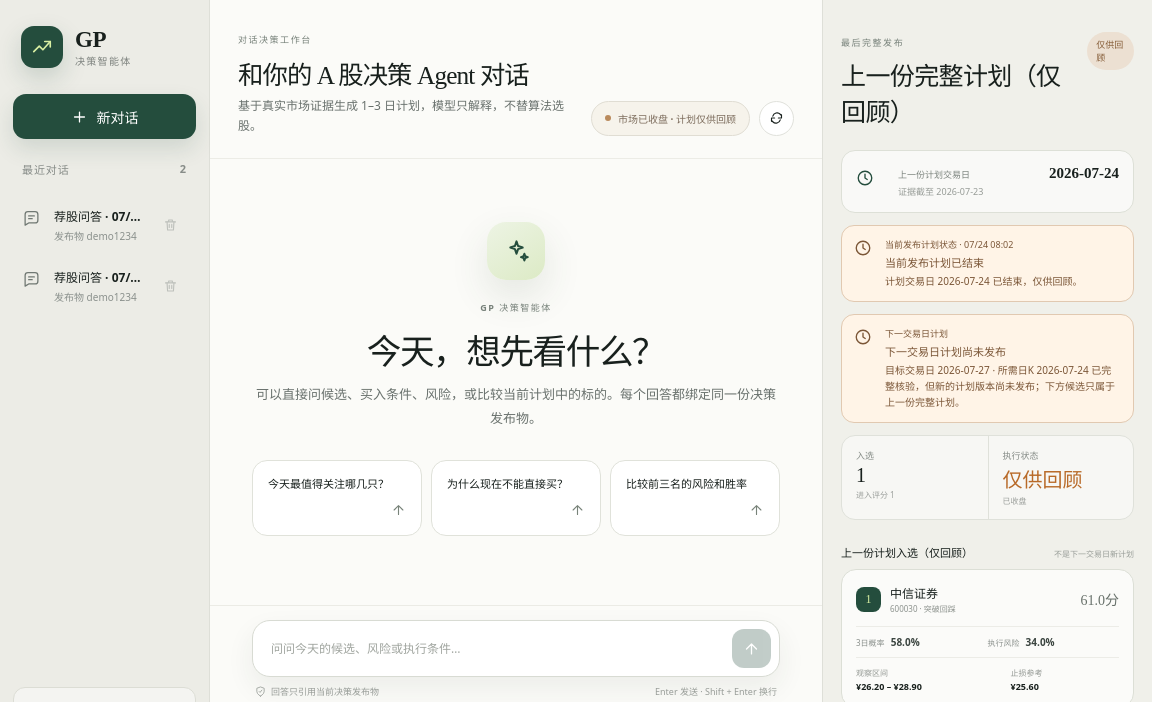
Scenario: GP chat workspace › keeps a newly selected conversation when an earlier deletion finishes
Click the button "荐股问答 · 07/23 09:01 发布物 demo1234": (84, 225) [13,197,154,253]
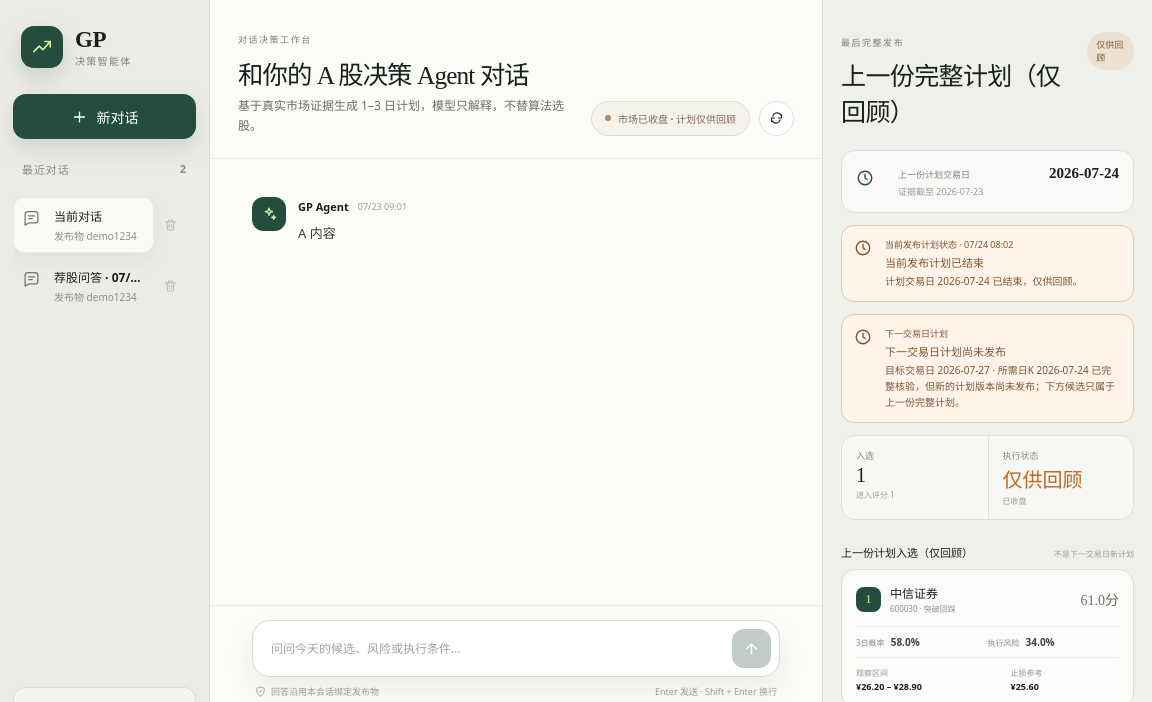
expect the text "A 内容" is shown: met, box [298,224,336,242]
Click the button named "删除对话": (170, 225) [156,211,184,239]
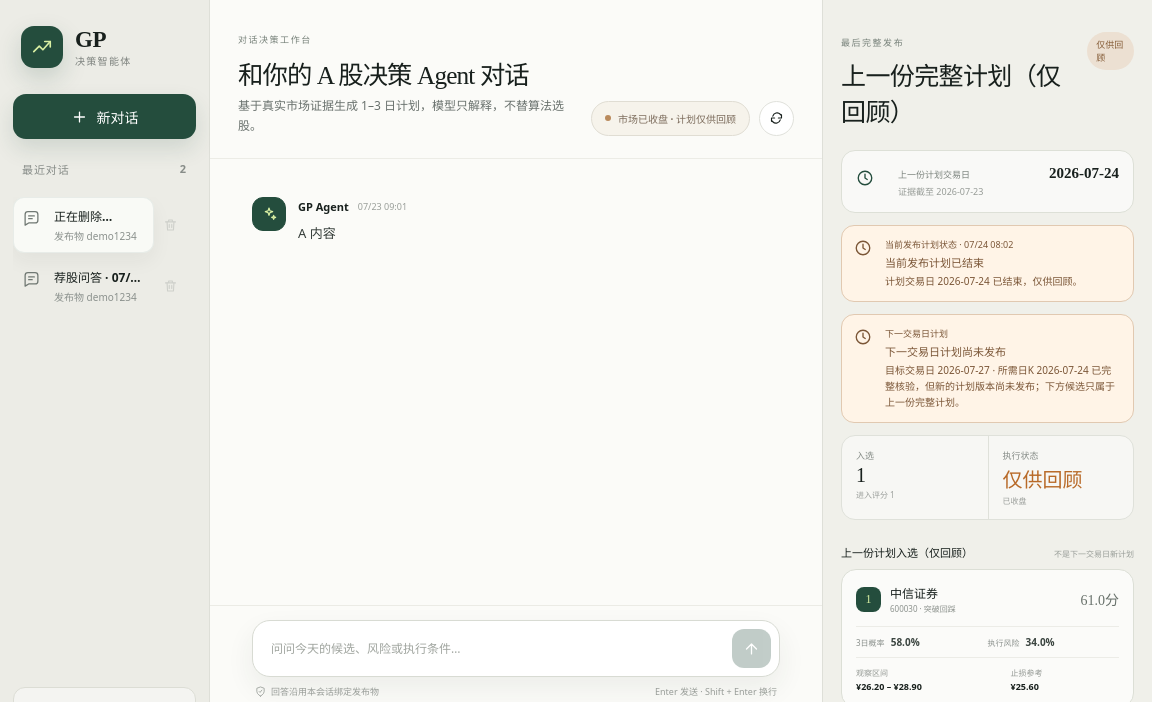
Click the button "荐股问答 · 07/23 10:01 发布物 demo1234": (84, 286) [13,258,154,314]
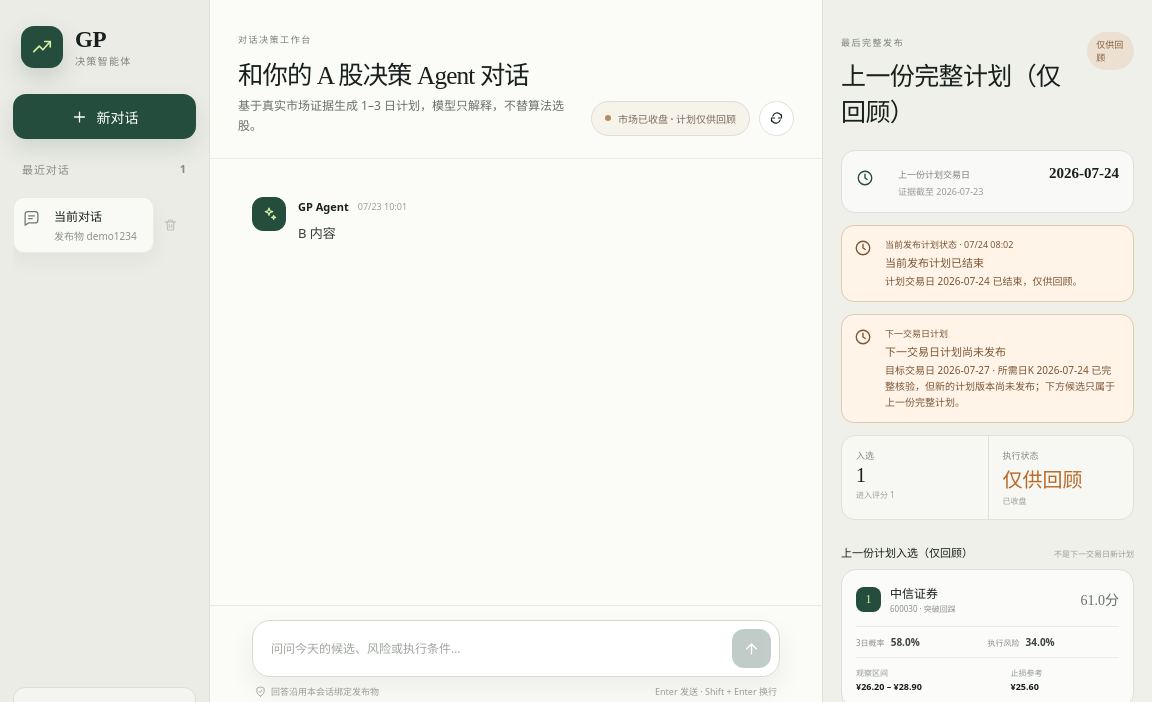
expect the text "A 内容" is gone: met
expect the text "B 内容" is shown: met, box [298,224,336,242]
